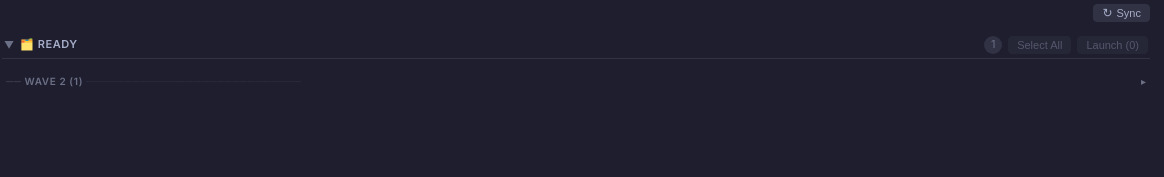
TaskList › Wave 2+ tasks show blocker names
Click the button with test id "wave-header-2" at (42, 81), box [2,71,1150,91]
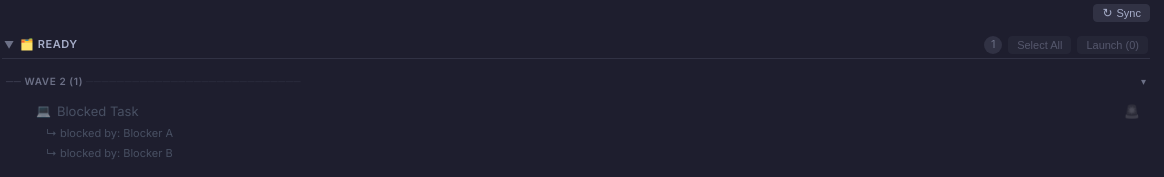
Now the text "Blocked Task" is shown, box [57,103,139,119]
